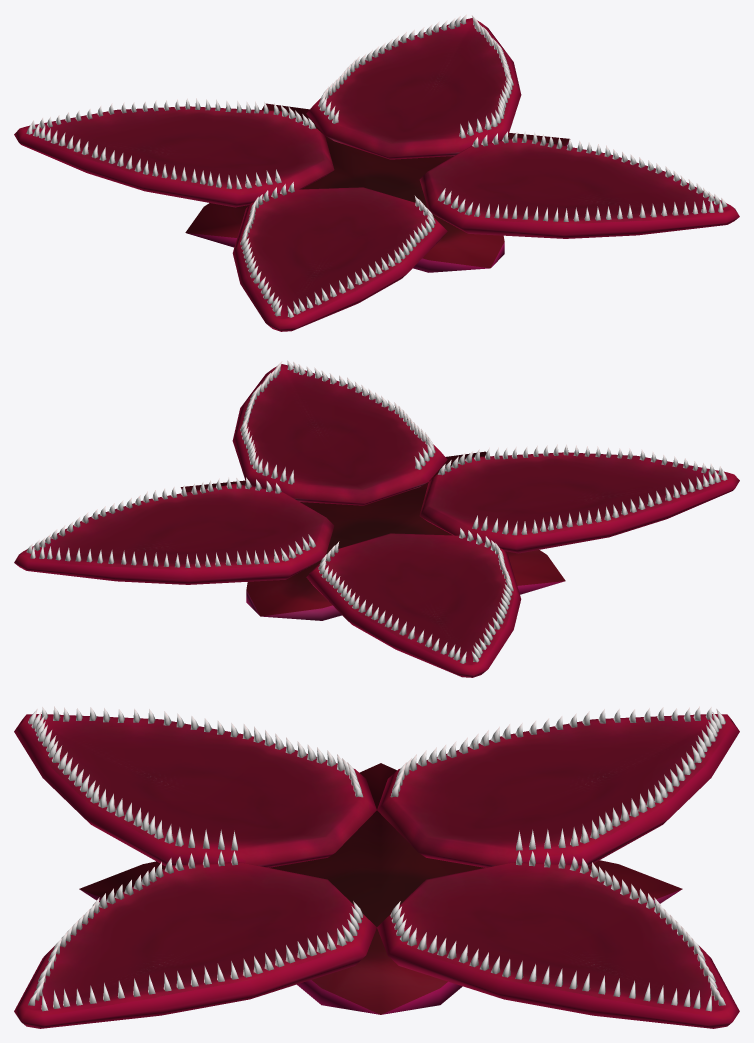
The model's file is ulthorror.fbx.
3 renders of one model, top to bottom at view 1: azimuth 30°, elevation 25°; view 2: azimuth 150°, elevation 25°; view 3: azimuth 270°, elevation 25°, orthographic. The views are drawn at different scales.
Visible parts, largest first — view 1: Cube; view 2: Cube; view 3: Cube.
Part boxes in pixels (left/top/right/bottom): Cube: left=14, top=14, right=739, bottom=331; Cube: left=14, top=360, right=739, bottom=677; Cube: left=14, top=706, right=739, bottom=1028.
Bounding box in the file's own units: 11.13 × 1.45 × 11.13.
